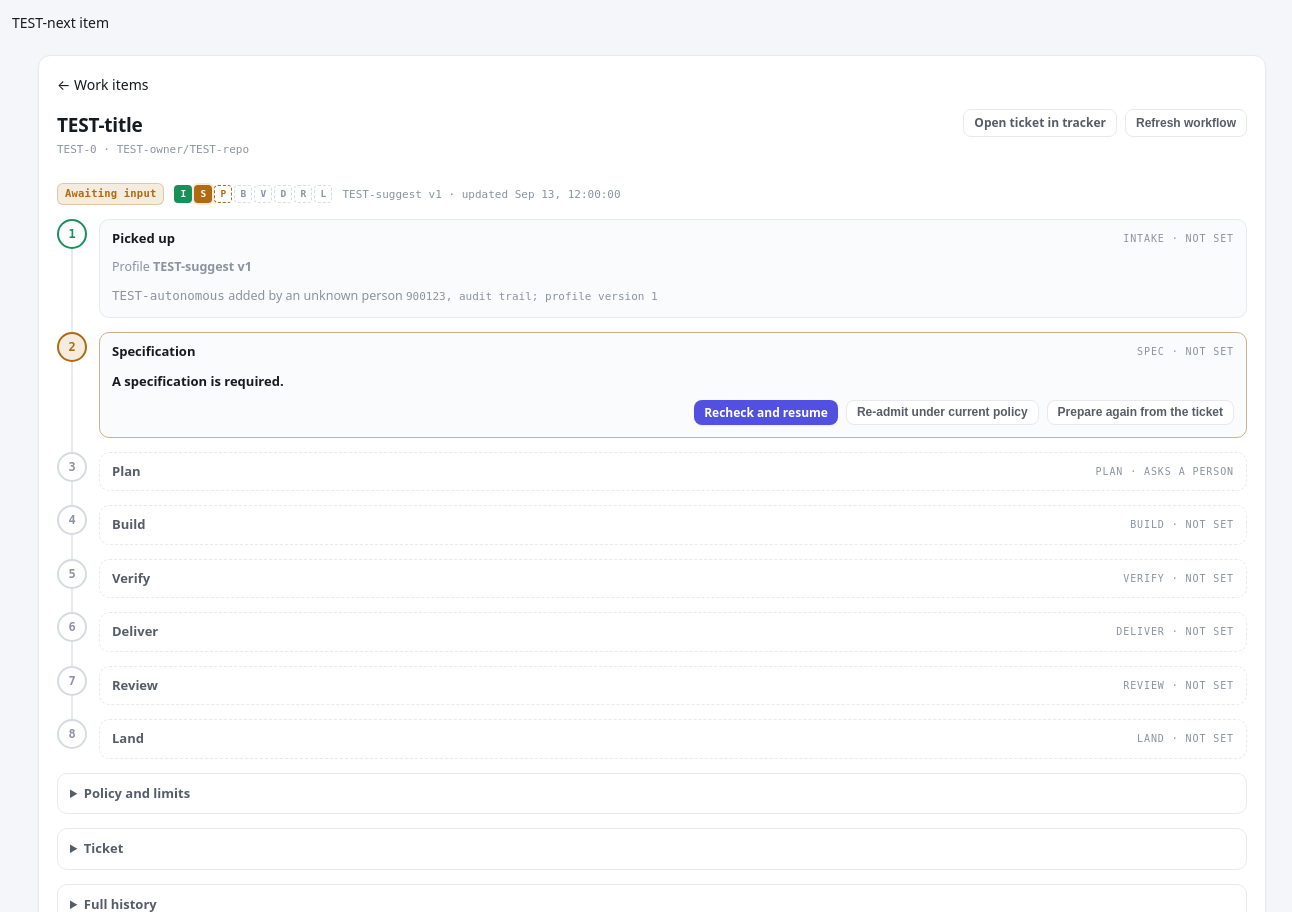
it: shows a refused resume without claiming that work continued
Step 1. Click the button "Recheck and resume" → (766, 412), box [694,400,838,425]
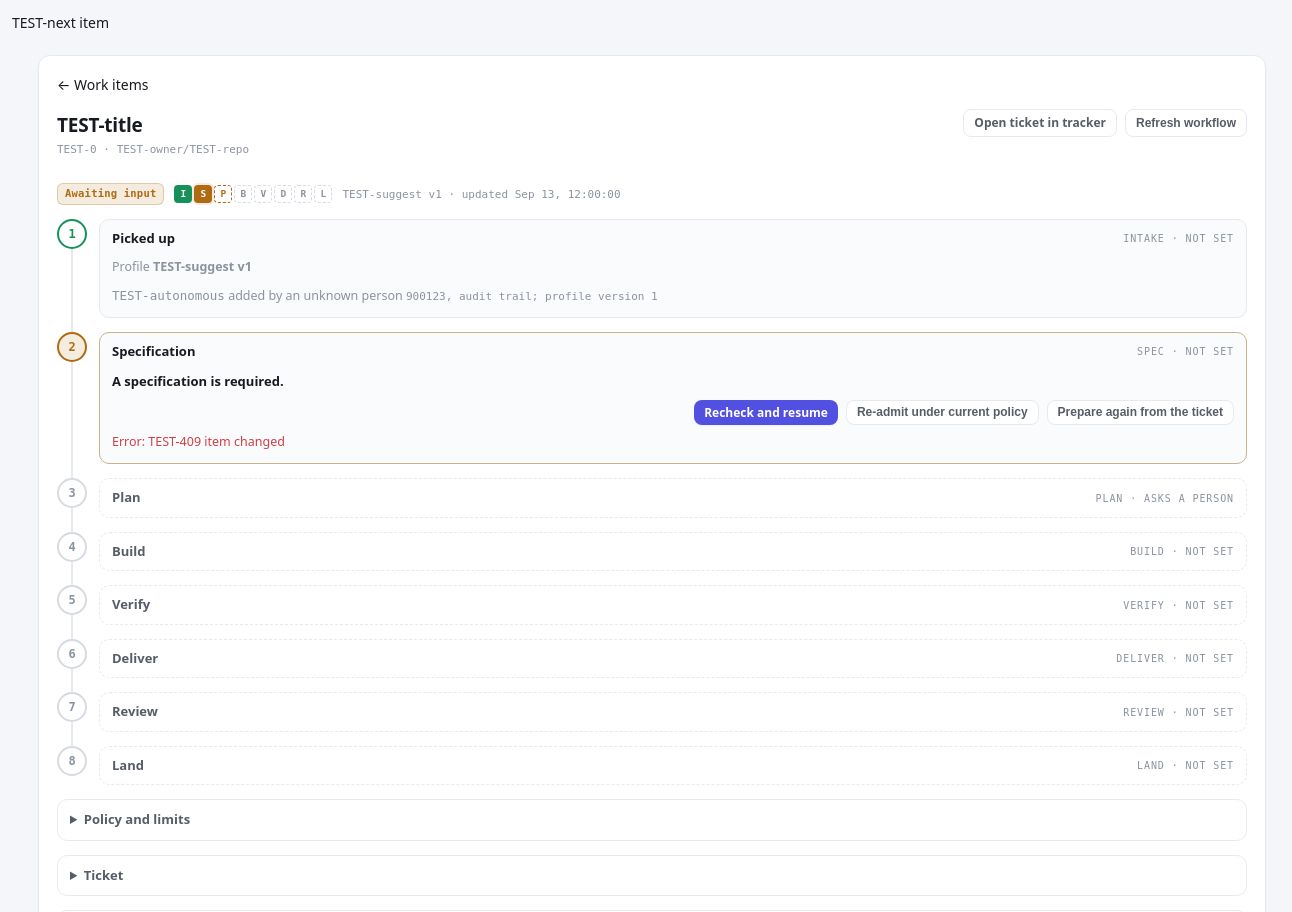
Expected: the text "Awaiting input" is shown, [57,183,164,205]
Expected: the message shows "TEST-409 item changed", [112,433,285,450]
